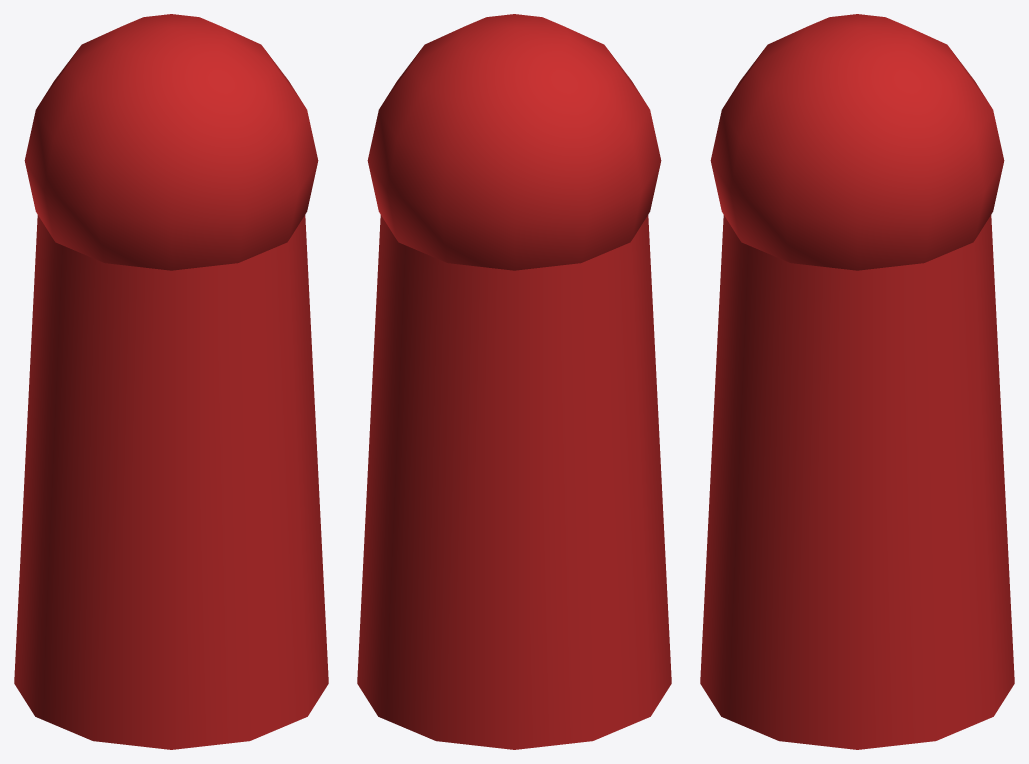
File: fire_hydrant.glb
The picture shows the model from 3 angles, left to right: view 1: azimuth 30°, elevation 25°; view 2: azimuth 150°, elevation 25°; view 3: azimuth 270°, elevation 25°; orthographic projection.
Bounding box in the file's own units: 0.6 × 1.38 × 0.6.
